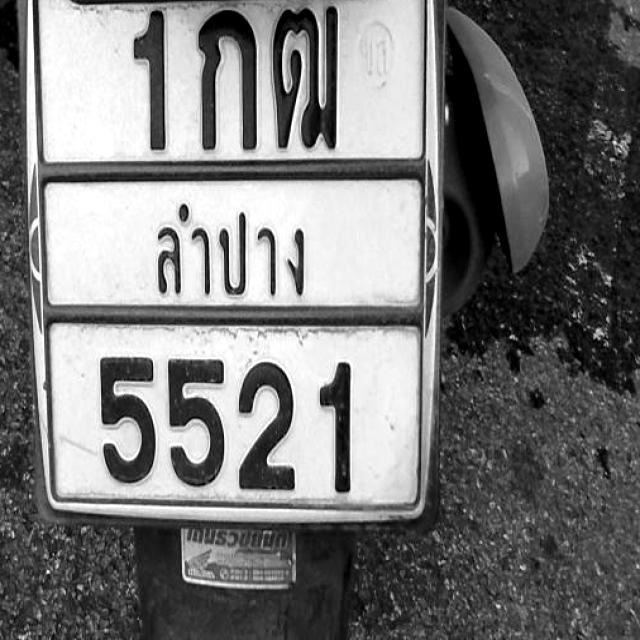letters: (262, 6, 342, 146), (160, 348, 226, 514), (88, 338, 158, 489), (232, 353, 292, 518), (188, 11, 255, 156), (107, 29, 170, 155), (322, 338, 370, 500)
license-plate: (25, 0, 430, 511)
province: (165, 195, 316, 310)
